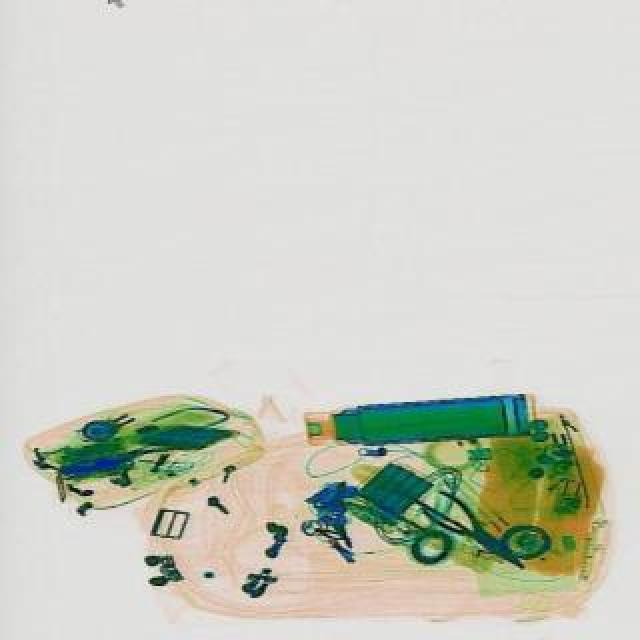wrench: (416, 486, 536, 582)
